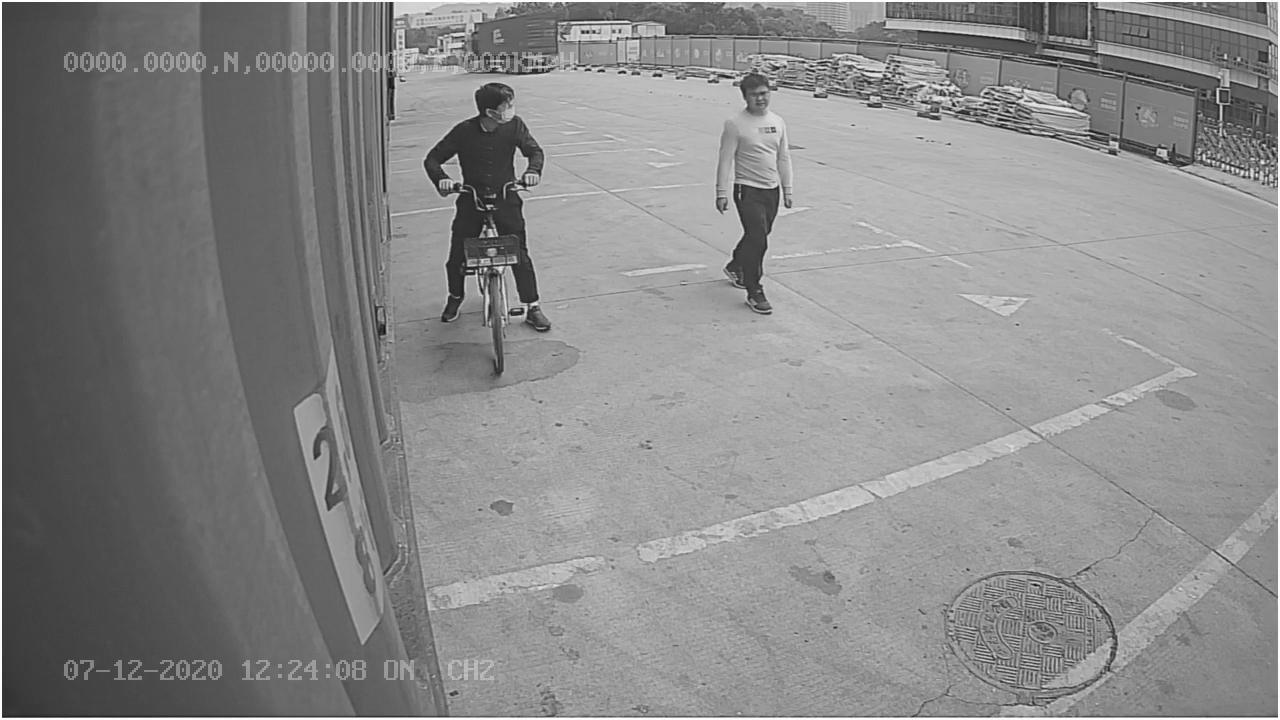person: (707, 67, 801, 317)
